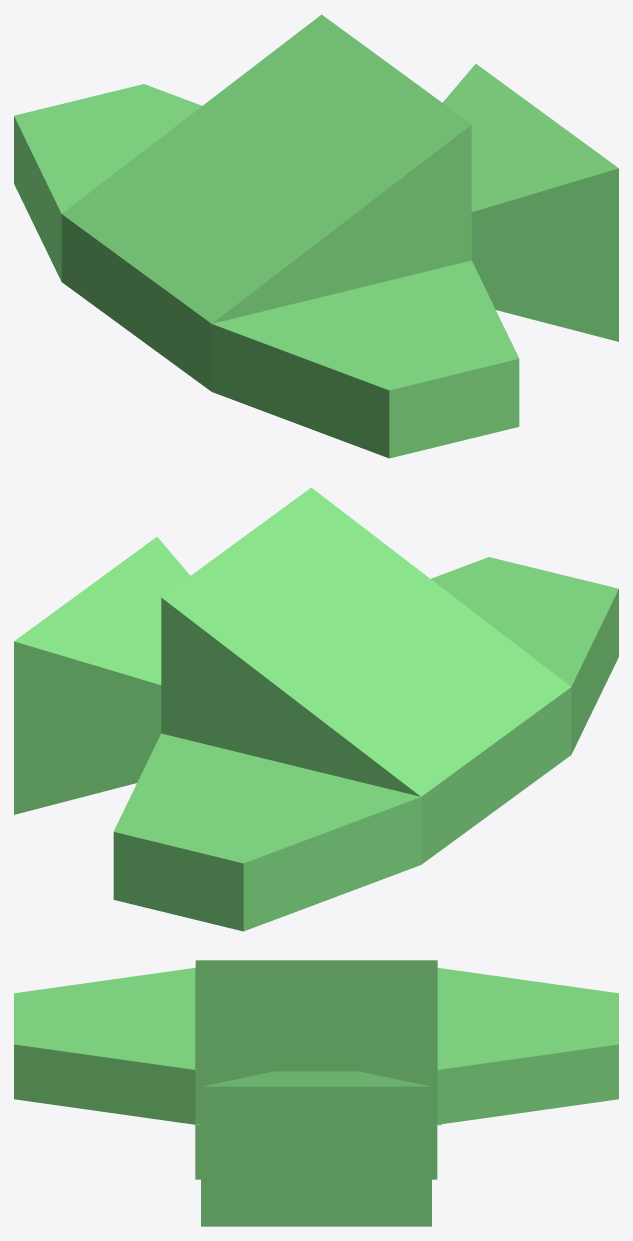
The model's file is ship.fbx.
The picture shows the model from 3 angles, top to bottom: view 1: azimuth 30°, elevation 25°; view 2: azimuth 150°, elevation 25°; view 3: azimuth 270°, elevation 25°; orthographic projection. The views are drawn at different scales.
Visible parts, largest first — view 1: Ship; view 2: Ship; view 3: Ship.
Boxes of the visible parts, box(x1,y1,x2,y2) form: Ship: box(14, 14, 618, 458); Ship: box(14, 487, 618, 931); Ship: box(14, 960, 618, 1226).
Bounding box in the file's own units: 316 × 200 × 500.
